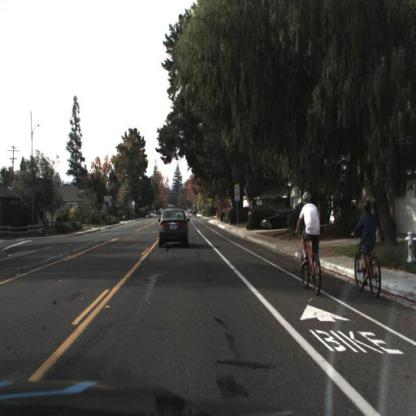biker: (351, 199, 384, 300), (296, 191, 323, 296)
car: (159, 210, 191, 250), (261, 207, 304, 232)
